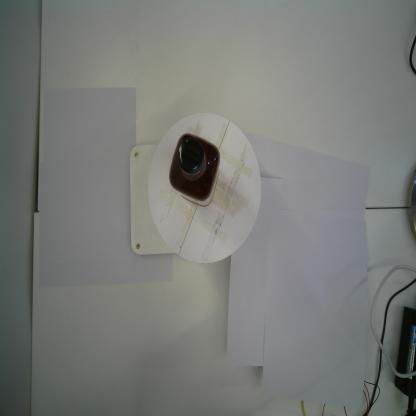Seasoner: (168, 131, 222, 208)
